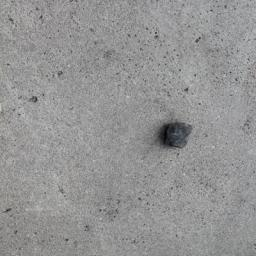FOD: (163, 120, 196, 151)
